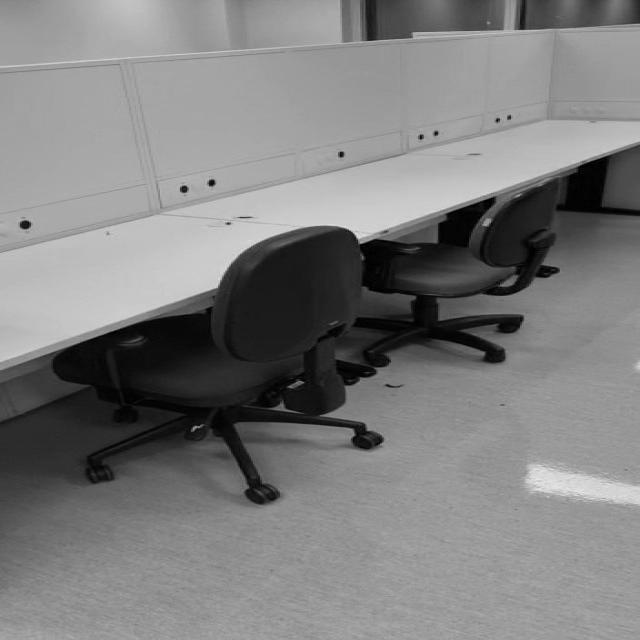cadeira-azul: (51, 225, 386, 503)
